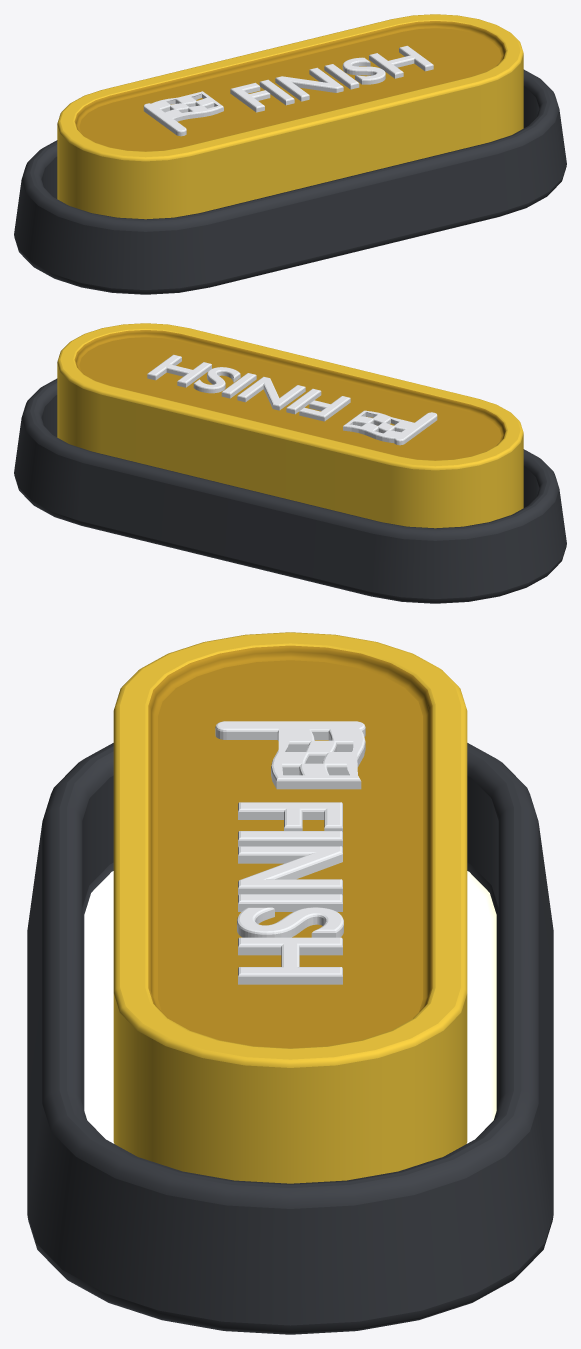
Rendered from FinishButton.fbx.
3 renders of one model, top to bottom at view 1: azimuth 30°, elevation 25°; view 2: azimuth 150°, elevation 25°; view 3: azimuth 270°, elevation 25°, orthographic. The views are drawn at different scales.
Visible parts, largest first — view 1: FinishButton_Cap, FinishButton_Base; view 2: FinishButton_Cap, FinishButton_Base; view 3: FinishButton_Cap, FinishButton_Base.
Boxes of the visible parts, x1,y1,x2,y2 form: FinishButton_Cap: (57,14,523,219); FinishButton_Base: (14,69,566,294); FinishButton_Cap: (57,323,523,528); FinishButton_Base: (14,378,566,603); FinishButton_Cap: (113,632,467,1183); FinishButton_Base: (27,743,553,1334).
Size of the model in its own units: 0.0947 by 0.021 by 0.0417.
